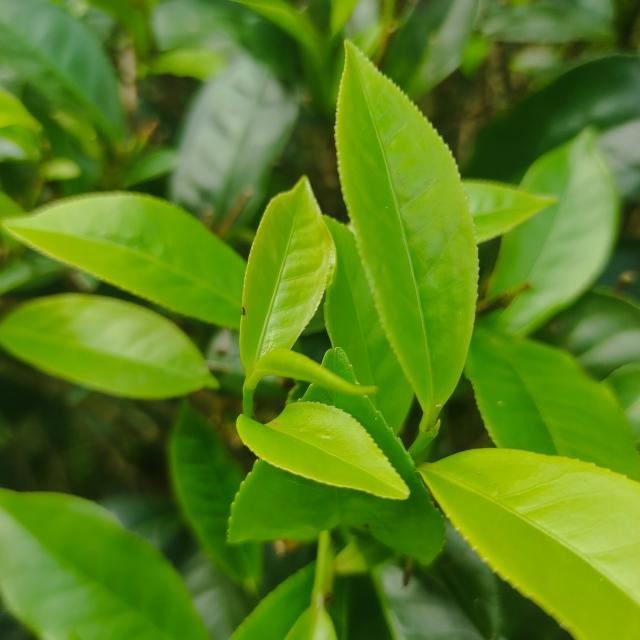unopened_leaf: (240, 339, 386, 409)
